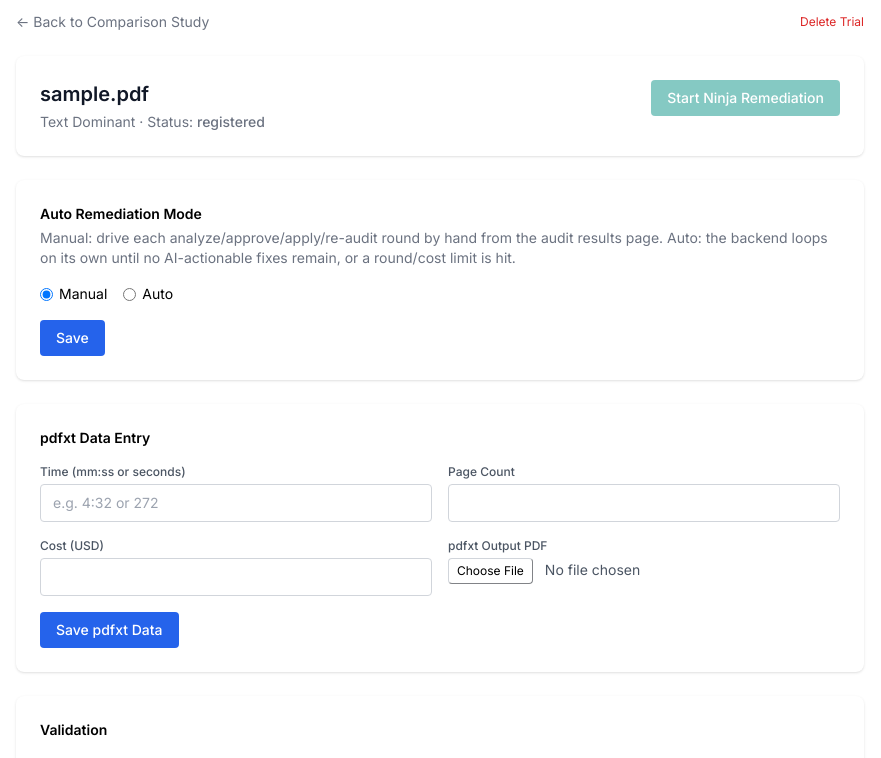
Test: ComparisonTrialWorkspacePage › Auto Remediation Mode config › defaults the number inputs to the trial's current autoMaxRounds/autoCostLimitUsd and only shows them once Auto is selected
The image size is (881, 758).
Check: the radio button labelled "Manual" is shown, box [40,288,53,300]
Check: the field labelled "Max rounds" is not shown
Click the radio button labelled "Auto": (130, 294) [123,288,136,300]
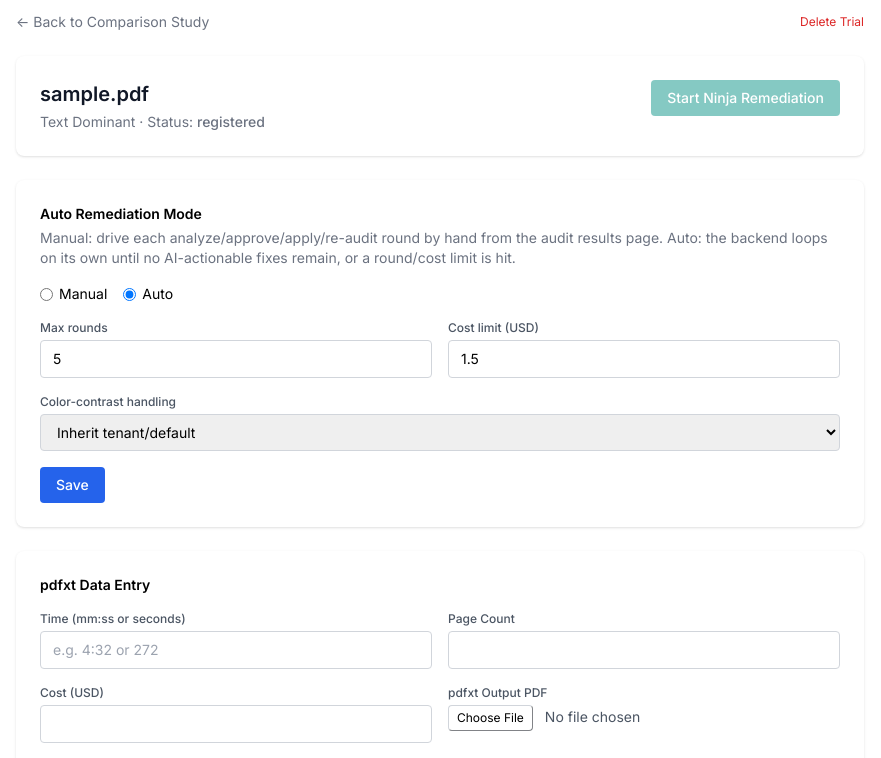
Check: the number field labelled "Max rounds" holds "5", box [40,340,432,378]
Check: the number field labelled "Cost limit (USD)" holds "1.5", box [448,340,840,378]
